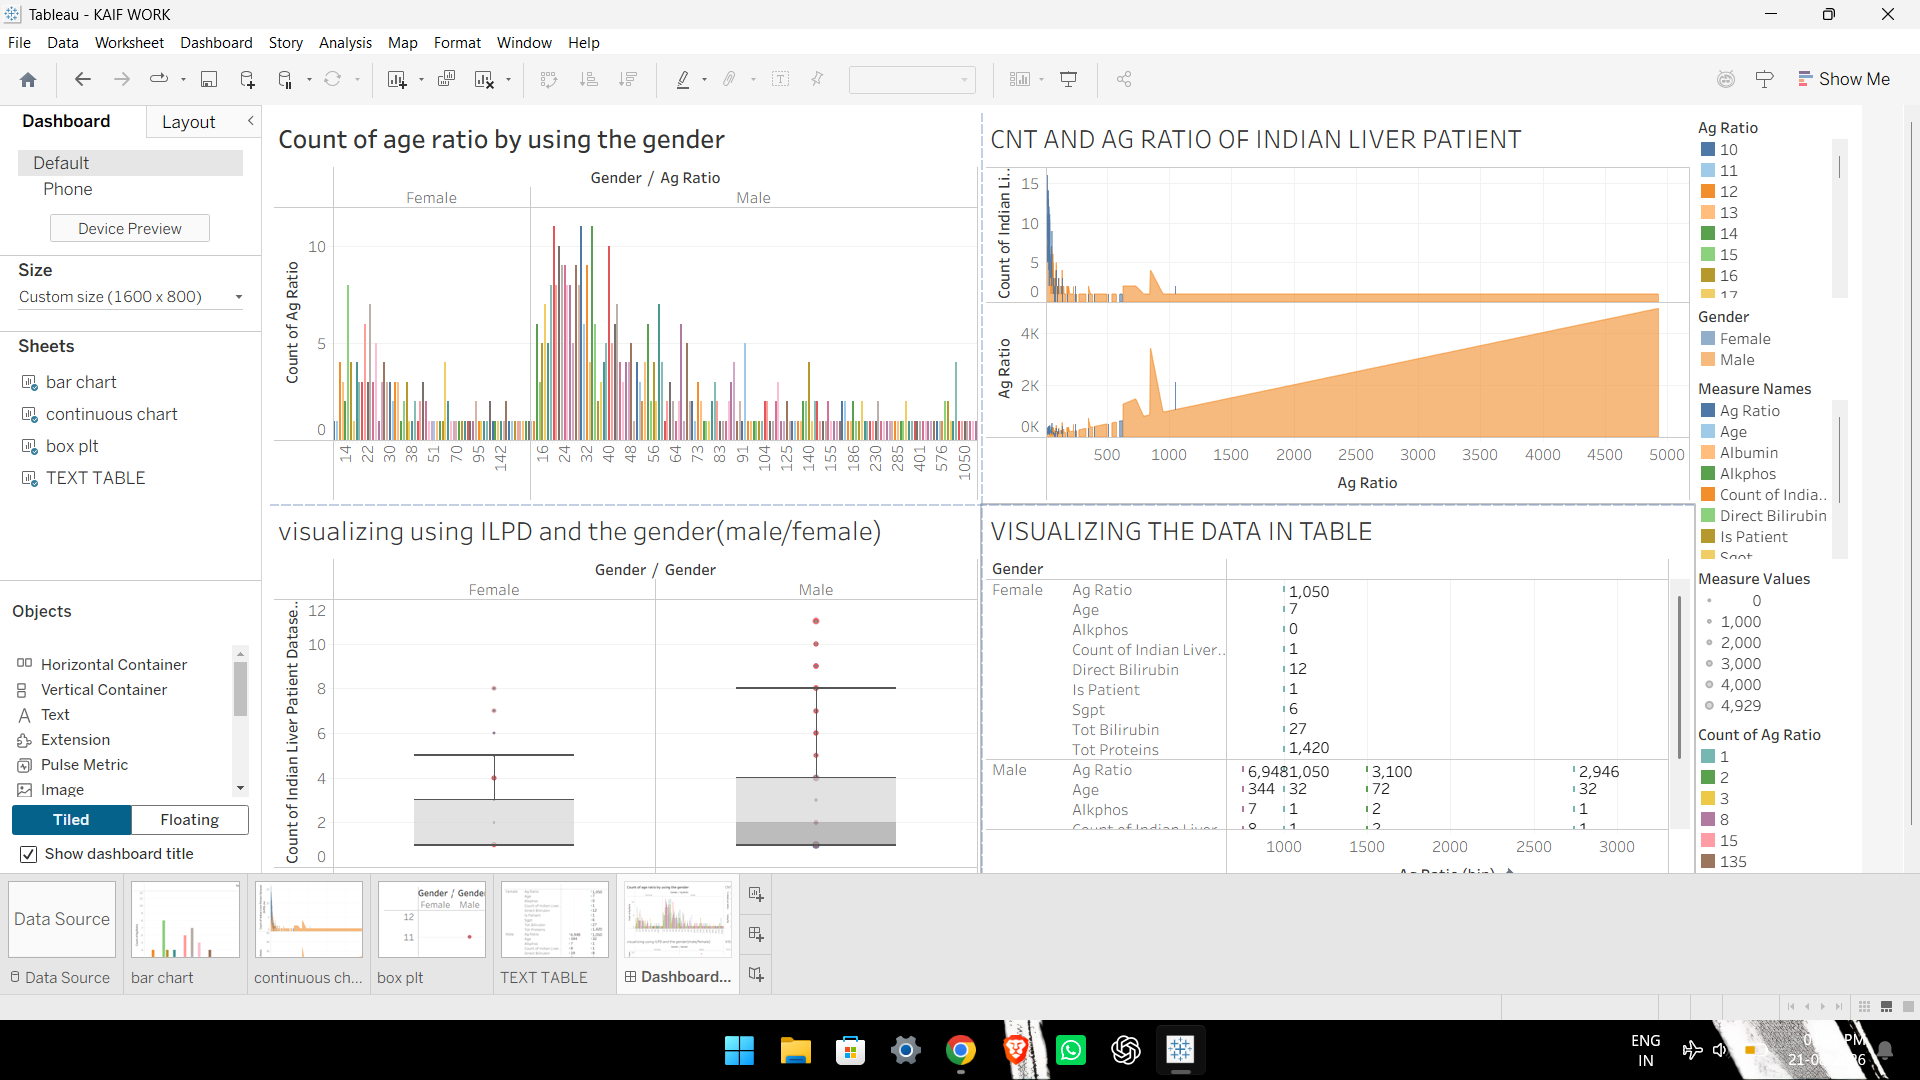

Layout of this report page (visuals, bound fields, positions):
{"tool":"tableau","page":{"name":"Dashboard 1","canvas":[1600,800],"ordinal":0},"visuals":[{"type":"title","box":[8,8,1584,50]},{"type":"worksheet","title":"bar chart","mark":"Automatic","rows":["ag_ratio"],"cols":["gender","ag_ratio"],"box":[8,58,712,367]},{"type":"worksheet","title":"continuous chart","mark":"Area","rows":["Indian Liver Patient Dataset (ILPD).csv_3C120E19DA1448529B8E","ag_ratio"],"cols":["ag_ratio"],"box":[720,58,712,367]},{"type":"legend","title":"bar chart","param":"[federated.1joe7d706omxwr1f7hugk0dx4640].[none:ag_ratio:ok]","box":[1432,58,160,168.7]},{"type":"legend","title":"continuous chart","param":"[federated.1joe7d706omxwr1f7hugk0dx4640].[none:gender:nk]","box":[1432,226.7,160,72]},{"type":"legend","title":"box plt","param":"[federated.1joe7d706omxwr1f7hugk0dx4640].[:Measure Names]","box":[1432,298.7,160,168.7]},{"type":"worksheet","title":"box plt","mark":"Circle","rows":["Indian Liver Patient Dataset (ILPD).csv_3C120E19DA1448529B8E"],"cols":["gender","gender"],"box":[8,425,712,367]},{"type":"worksheet","title":"TEXT TABLE","mark":"Automatic","rows":["gender"],"cols":["Ag Ratio (bin)"],"box":[720,425,712,367]},{"type":"legend","title":"box plt","param":"[federated.1joe7d706omxwr1f7hugk0dx4640].[Multiple Values]","box":[1432,467.3,160,156]},{"type":"legend","title":"TEXT TABLE","param":"[federated.1joe7d706omxwr1f7hugk0dx4640].[cnt:ag_ratio:ok]","box":[1432,623.3,160,168.7]}]}

Visuals, with their boxes on the page's 1600x800 design canvas (x1, y1, x2, y2). These are canvas units, not pixel positions in the 1920x1080 screenshot, which may show the page scaled, cropped or inside an application window:
title: pyautogui.locateOnScreen(8, 8, 1592, 58)
"bar chart" worksheet: pyautogui.locateOnScreen(8, 58, 720, 425)
"continuous chart" worksheet (Area marks): pyautogui.locateOnScreen(720, 58, 1432, 425)
"bar chart" legend: pyautogui.locateOnScreen(1432, 58, 1592, 227)
"continuous chart" legend: pyautogui.locateOnScreen(1432, 227, 1592, 299)
"box plt" legend: pyautogui.locateOnScreen(1432, 299, 1592, 467)
"box plt" worksheet (Circle marks): pyautogui.locateOnScreen(8, 425, 720, 792)
"TEXT TABLE" worksheet: pyautogui.locateOnScreen(720, 425, 1432, 792)
"box plt" legend: pyautogui.locateOnScreen(1432, 467, 1592, 623)
"TEXT TABLE" legend: pyautogui.locateOnScreen(1432, 623, 1592, 792)
